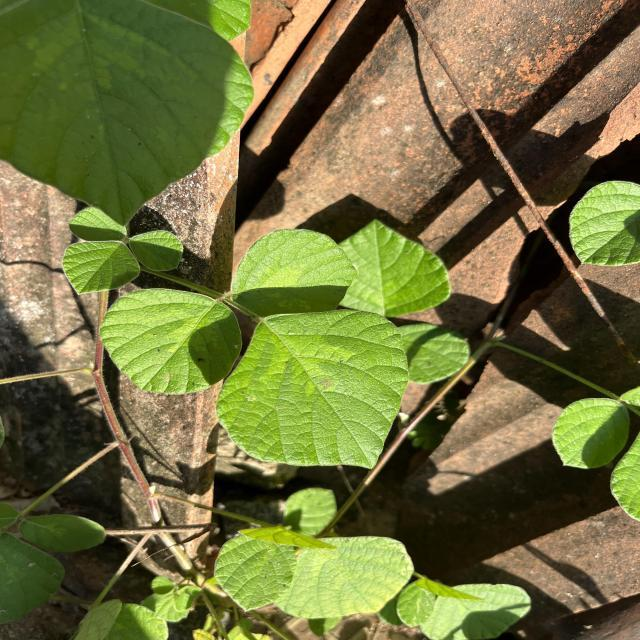Pseudarthria viscida: (95, 226, 413, 473)
